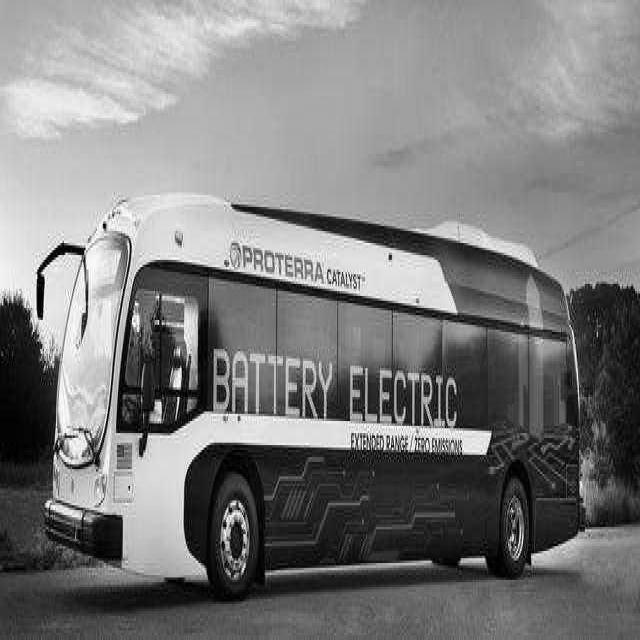Bus: (38, 195, 580, 597)
